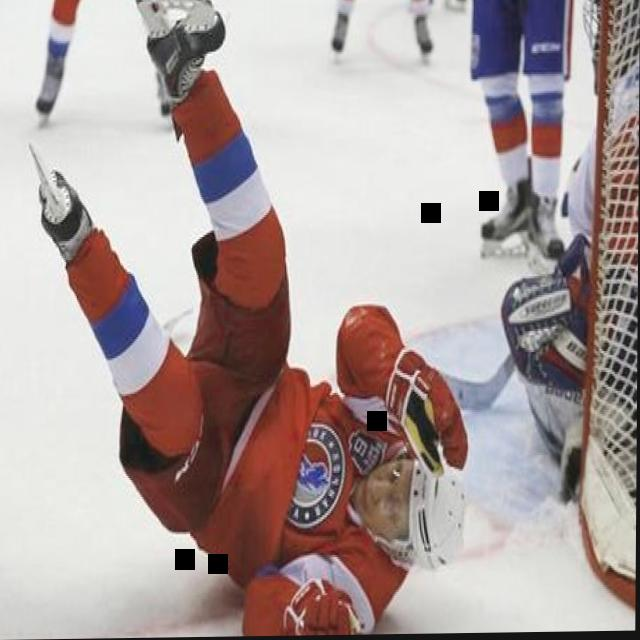Fall-Detected: (11, 0, 468, 640)
